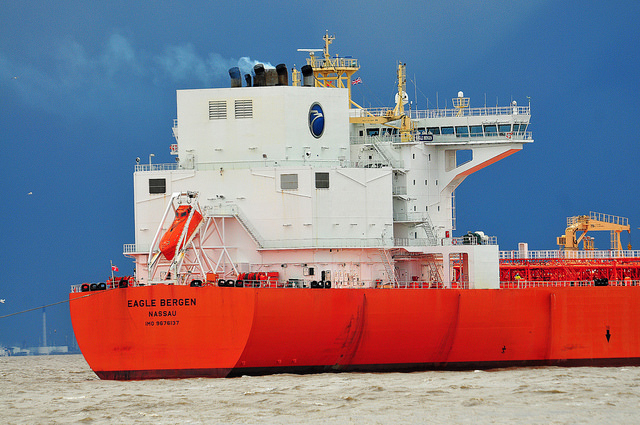tanker: (66, 26, 639, 374)
